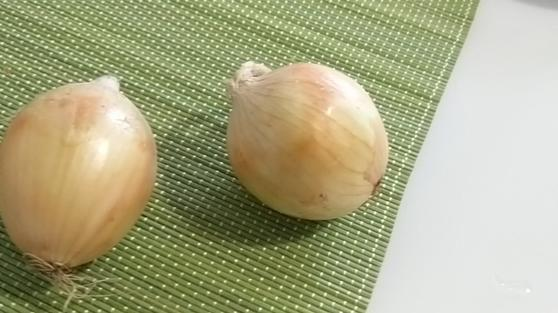onion: (1, 73, 168, 271), (227, 55, 393, 226)
